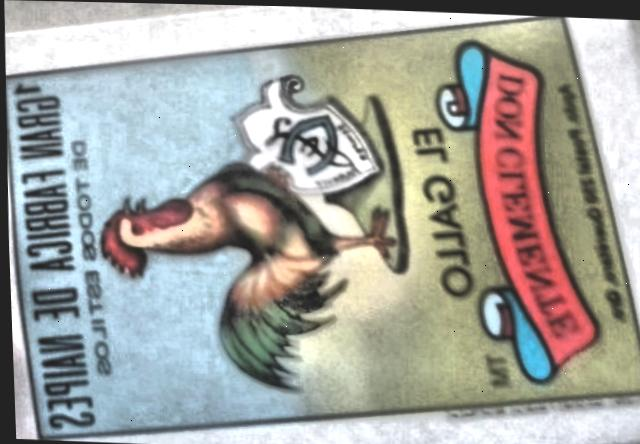Gallo: (6, 16, 640, 437)
